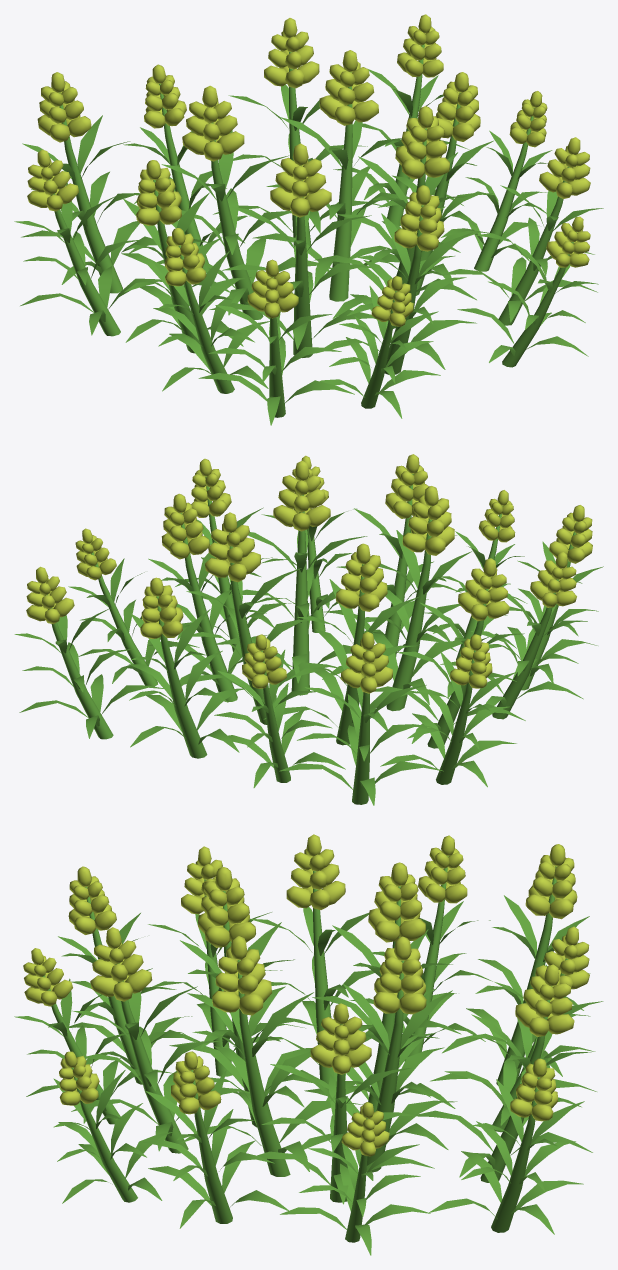
File: Lavender.lv.003.fbx
3 renders of one model, top to bottom at view 1: azimuth 30°, elevation 25°; view 2: azimuth 150°, elevation 25°; view 3: azimuth 270°, elevation 25°, orthographic. The views are drawn at different scales.
Parts seen in each view (by area): view 1: Cube.049; view 2: Cube.049; view 3: Cube.049.
Boxes of the visible parts, x1,y1,x2,y2 form: Cube.049: [14, 14, 603, 425]; Cube.049: [14, 454, 603, 805]; Cube.049: [14, 834, 603, 1255].
Bounding box in the file's own units: 194 × 86.06 × 186.
